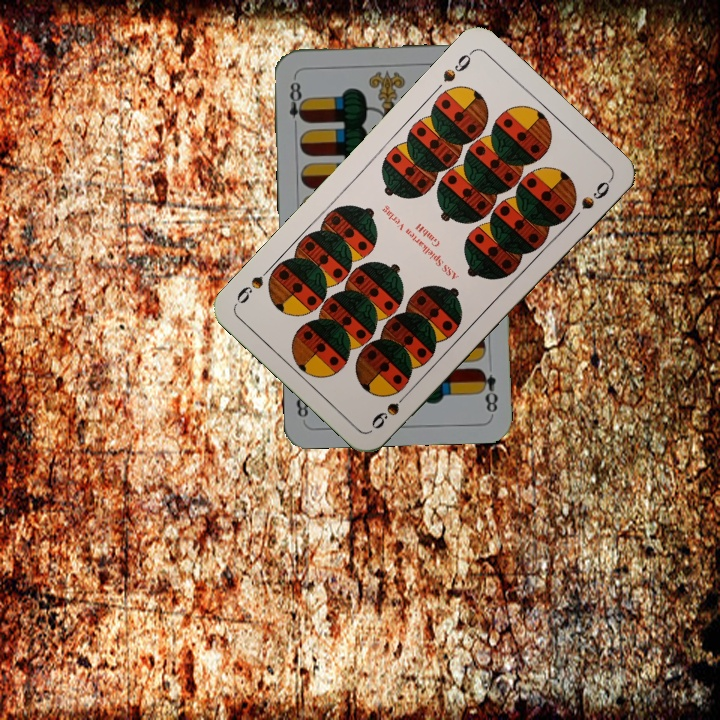E8: (285, 73, 309, 132), (475, 364, 500, 415)
S9: (367, 385, 414, 432), (439, 47, 476, 85)
